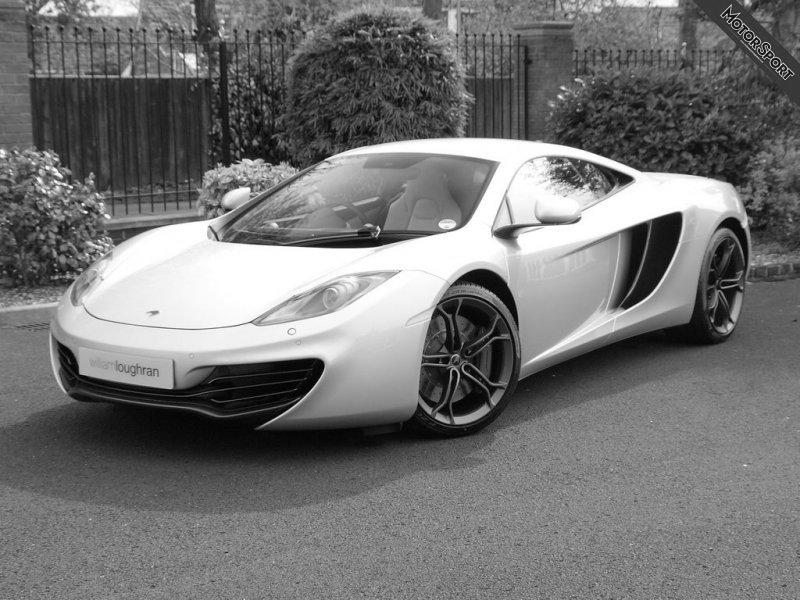car: (46, 136, 753, 441)
